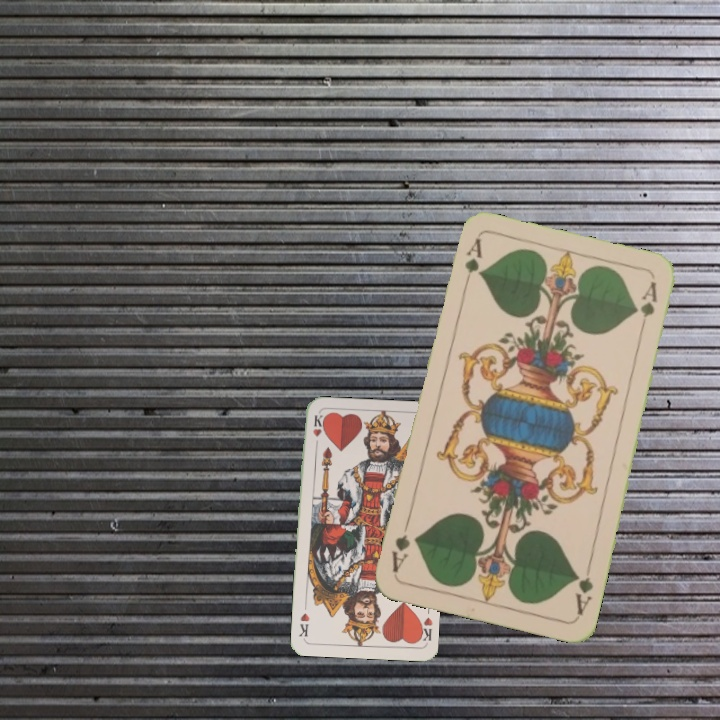GA: (459, 234, 485, 293), (570, 569, 596, 618)
HK: (414, 613, 435, 645), (309, 411, 324, 451)
